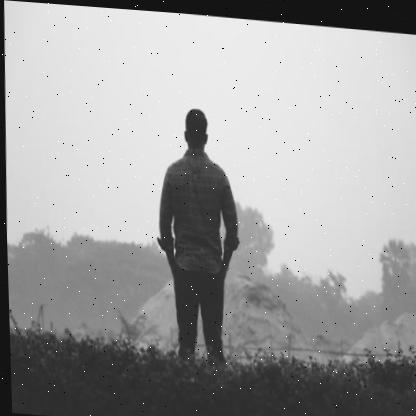person: (125, 85, 262, 365)
